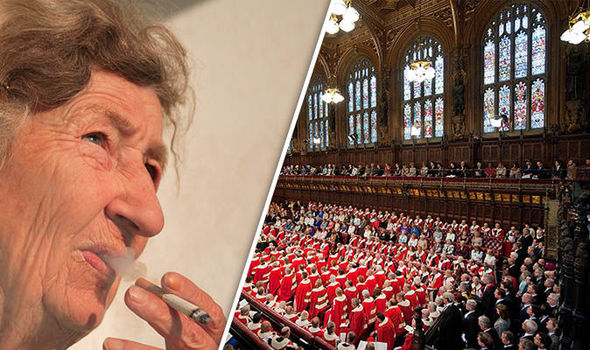cigarette: (134, 274, 215, 323)
